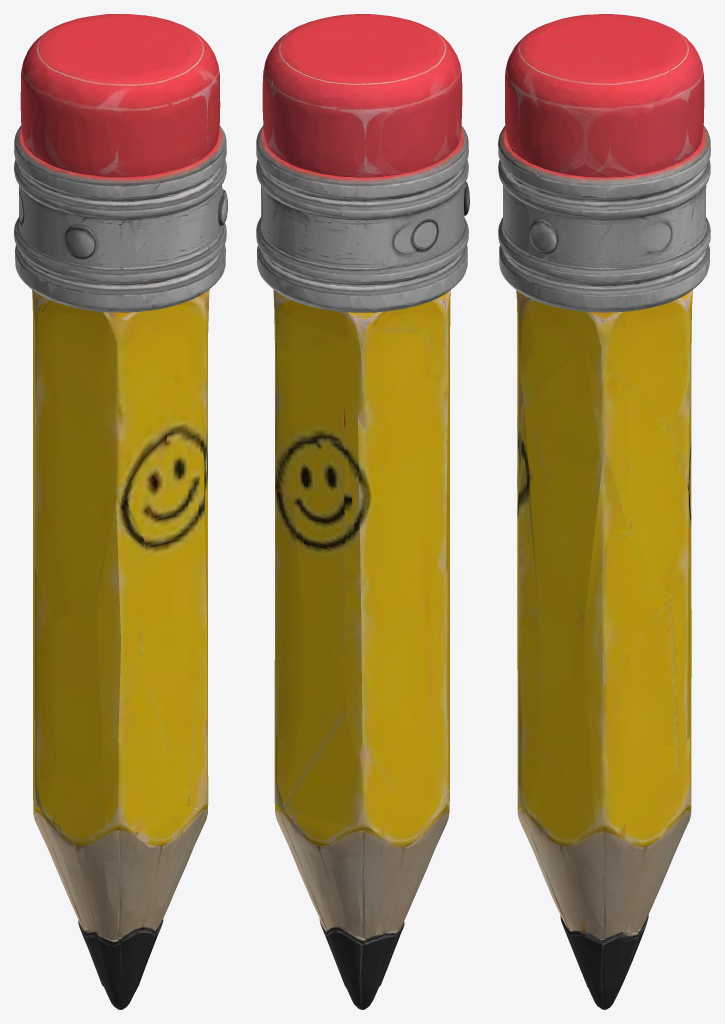
File: giant_pencil.glb
3 renders of one model, left to right at view 1: azimuth 30°, elevation 25°; view 2: azimuth 150°, elevation 25°; view 3: azimuth 270°, elevation 25°, orthographic.
Visible parts, largest first — view 1: Mesh_0; view 2: Mesh_0; view 3: Mesh_0.
Boxes of the visible parts, bbox=[...] form: Mesh_0: bbox=[14, 14, 227, 1009]; Mesh_0: bbox=[256, 14, 469, 1009]; Mesh_0: bbox=[498, 14, 710, 1009].
Bounding box in the file's own units: 0.2002 × 1 × 0.2001.
1 material, 1 textured.
